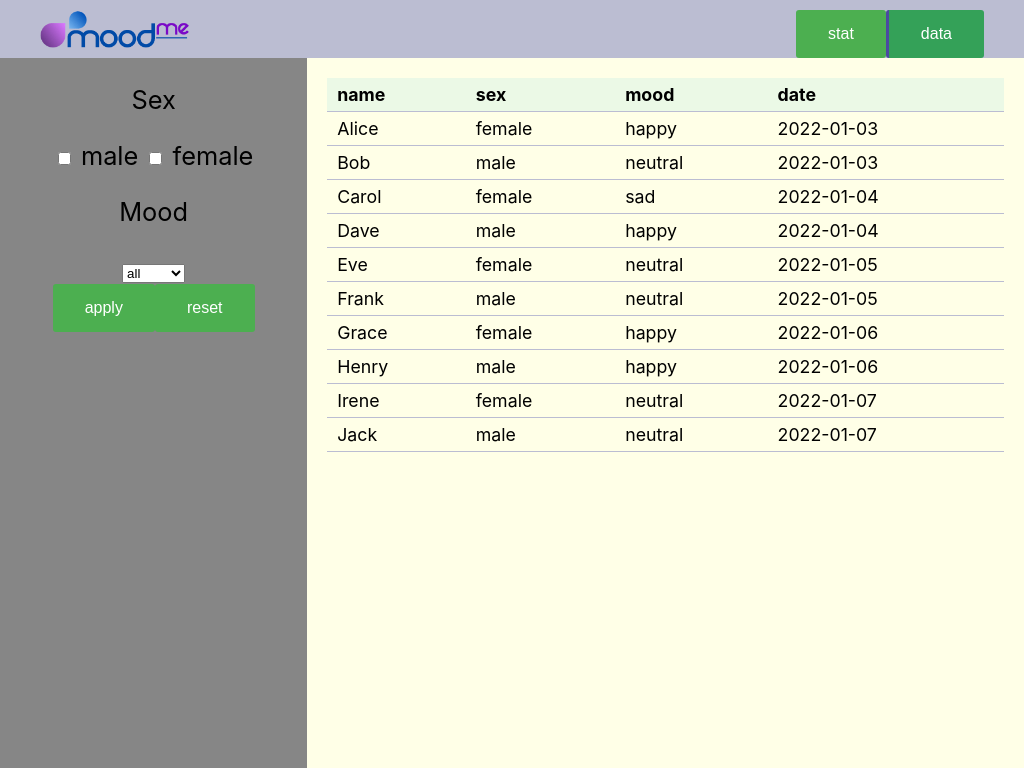
shows an empty state when no entry matches the filter
Click the checkbox labelled "male" at {"x": 64, "y": 159}, box [58, 152, 71, 165]
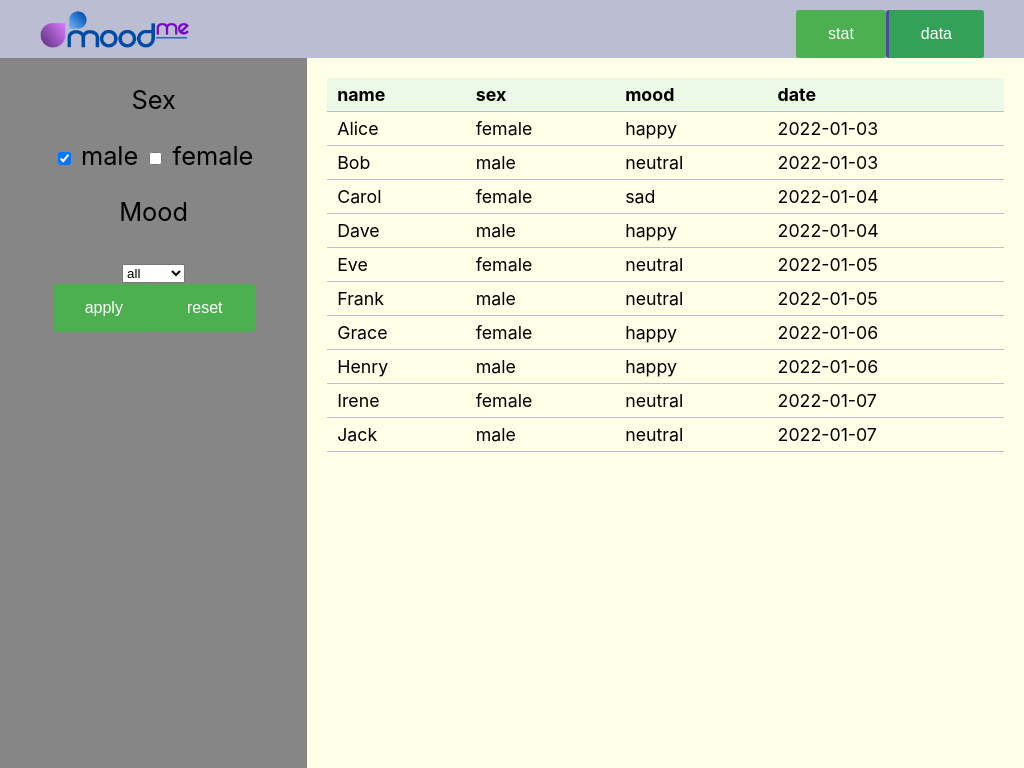
Select "sad" in the dropdown named "mood" at {"x": 154, "y": 273}, box [122, 264, 185, 283]
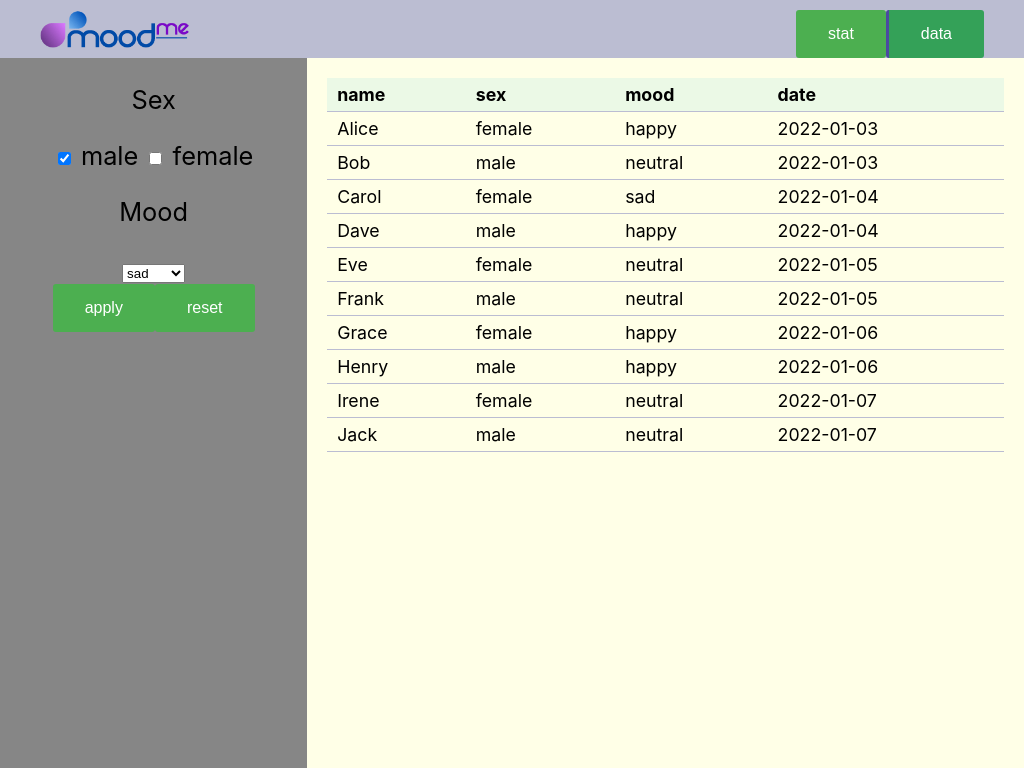
Click the button "apply" at {"x": 104, "y": 308}, box [53, 284, 155, 332]
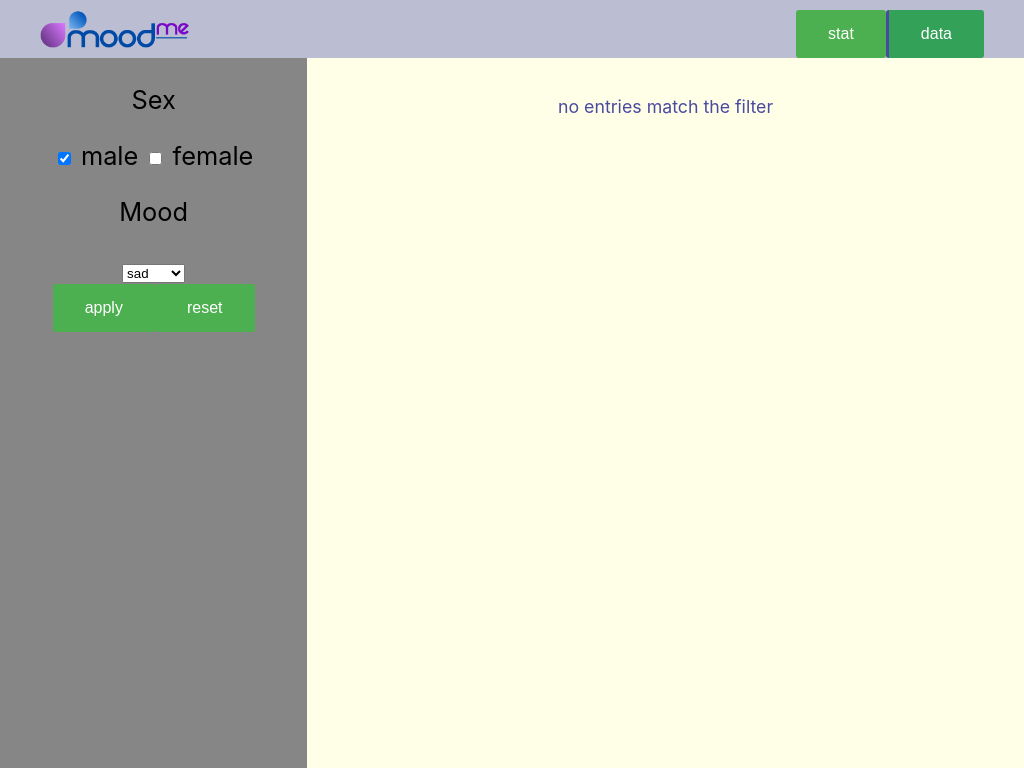
Check: the text "no entries match the filter" is shown, box [558, 96, 773, 117]
